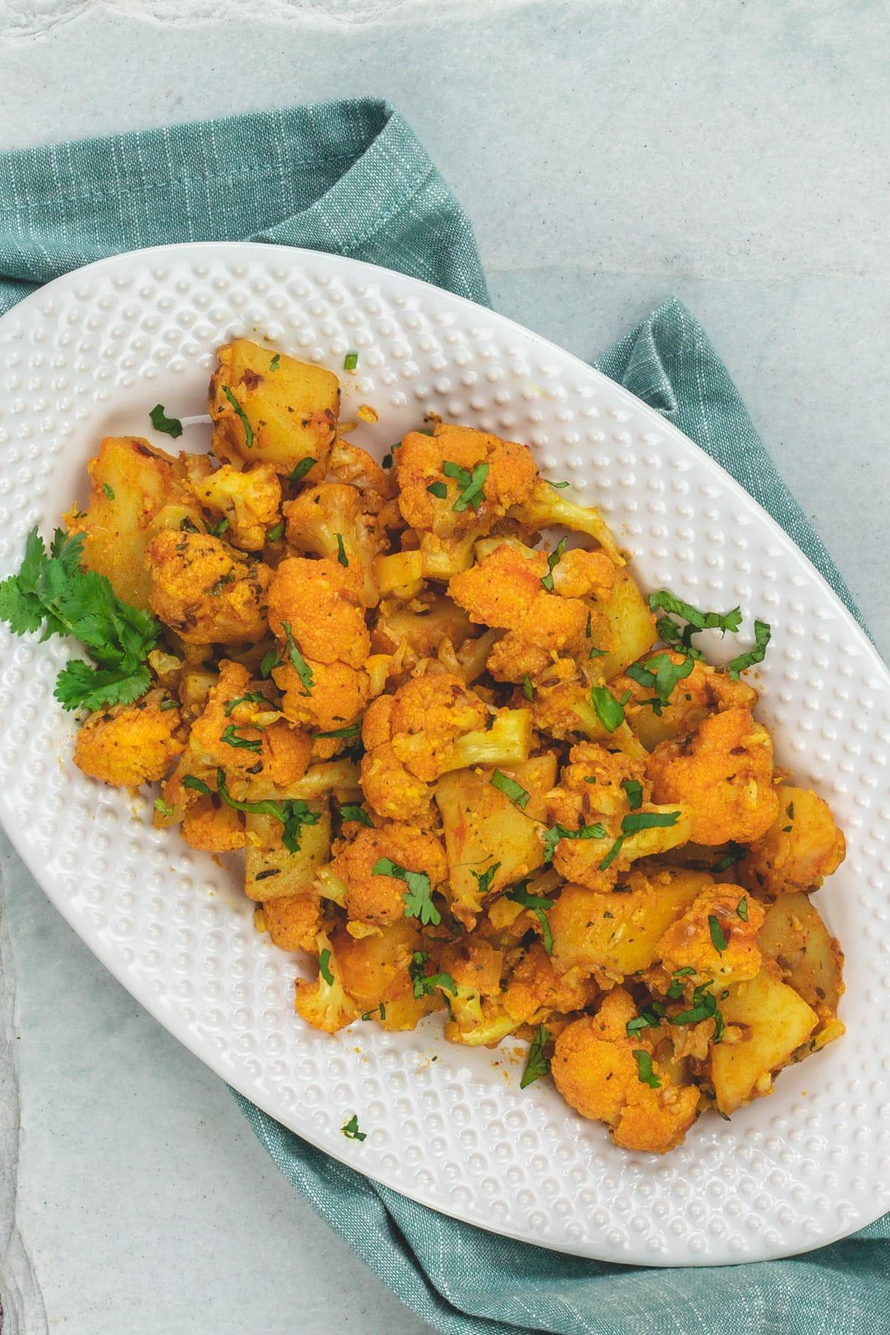AlooGobi: (6, 334, 848, 1149)
